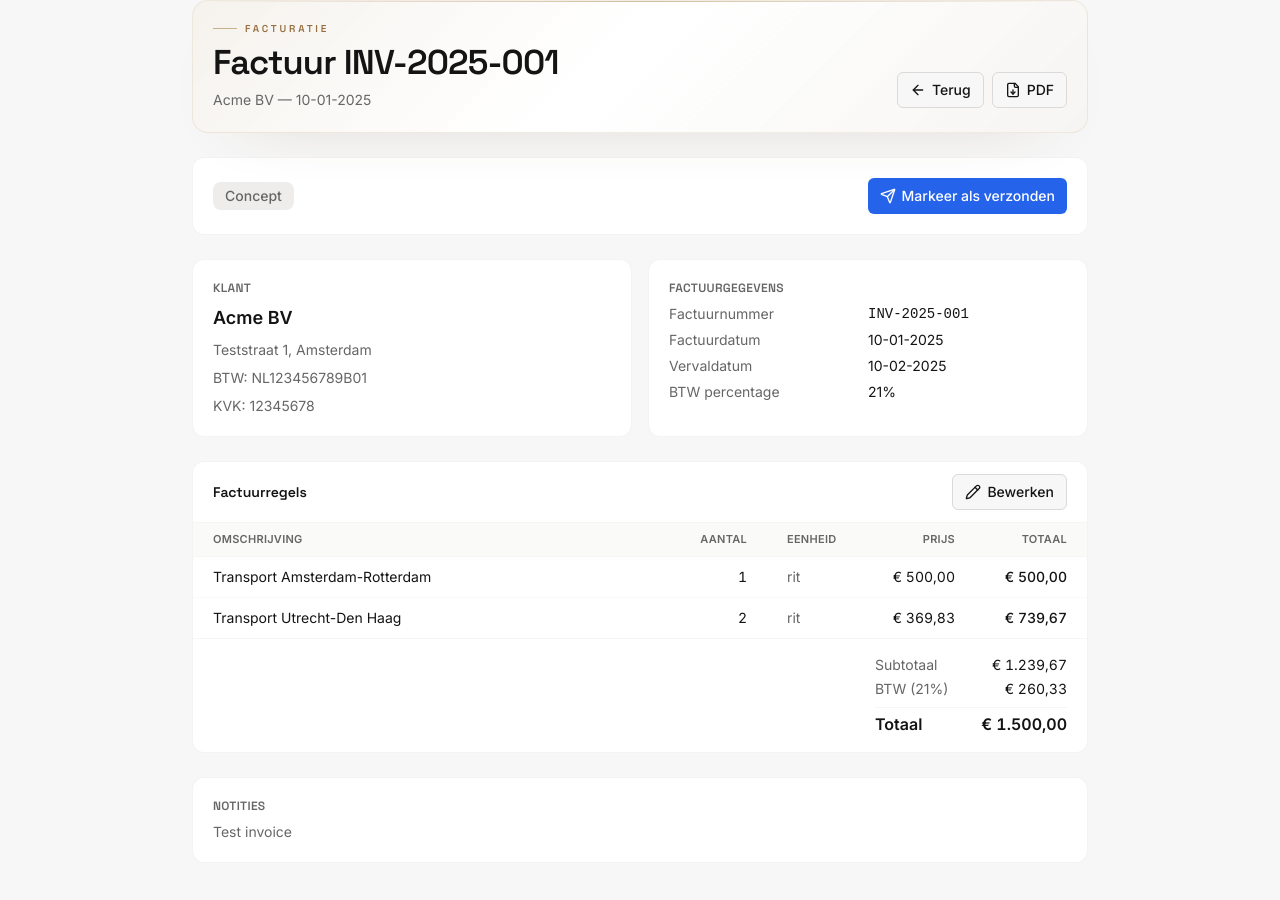
it: FacturatieDetail › shows confirmation dialog when clicking verzonden button
Click the button "Markeer als verzonden": (967, 196) [868,178,1067,214]
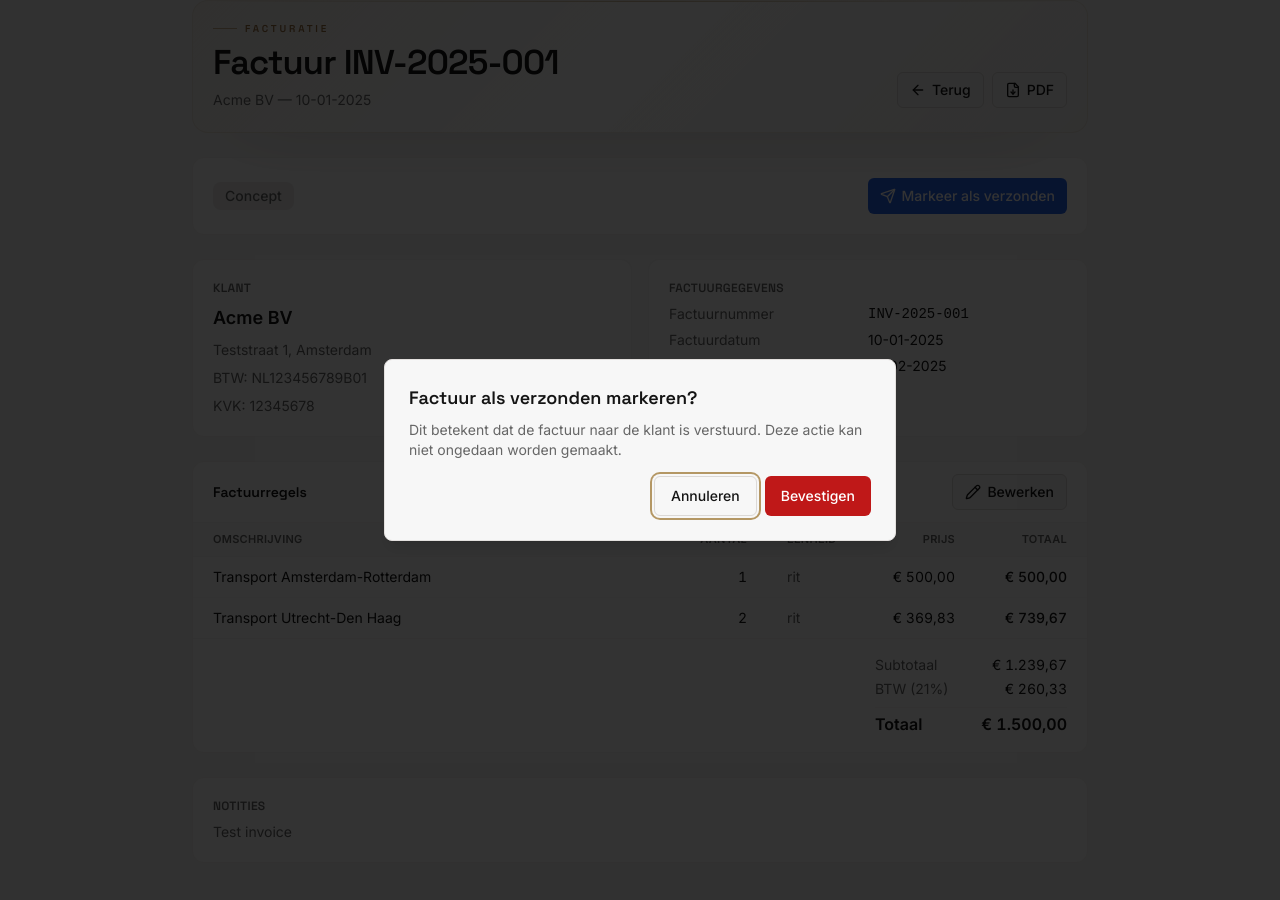
Now the heading "Factuur als verzonden markeren?" is shown, box [409,386,698,409]
